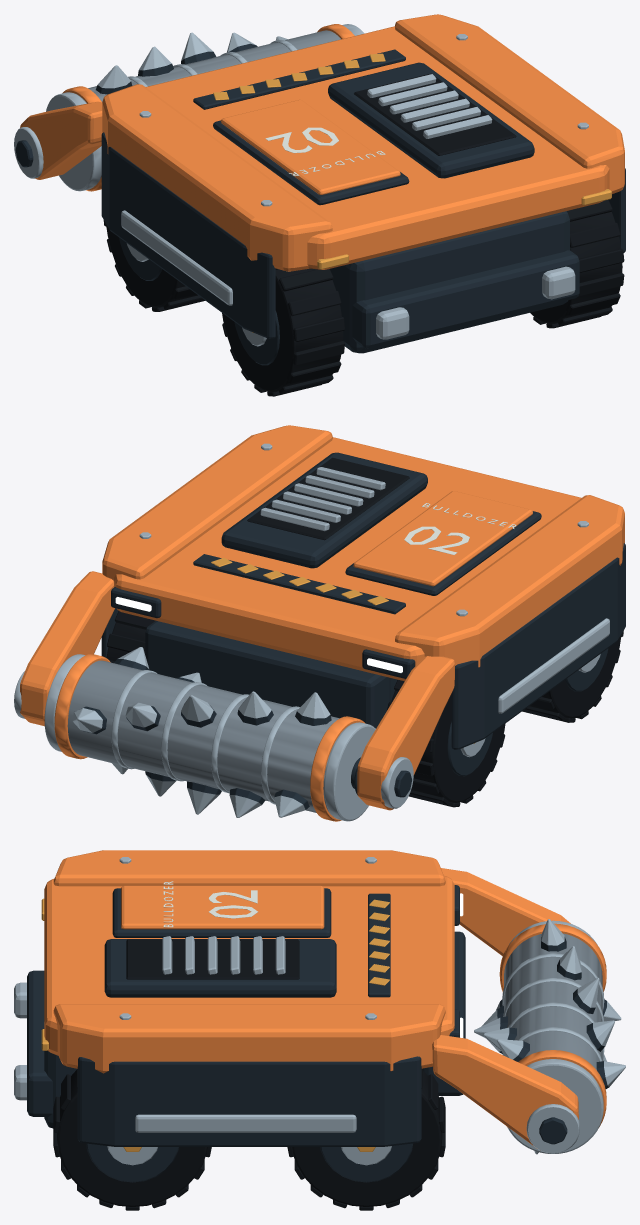
File: bulldozer_v03.glb
3 renders of one model, top to bottom at view 1: azimuth 30°, elevation 25°; view 2: azimuth 150°, elevation 25°; view 3: azimuth 270°, elevation 25°, orthographic.
Parts seen in each view (by area): view 1: ChassisMesh, Wheel_RL_Mesh, WeaponMesh, Wheel_RR_Mesh, Wheel_FL_Mesh; view 2: ChassisMesh, WeaponMesh, Wheel_FL_Mesh, Wheel_RL_Mesh, Wheel_FR_Mesh; view 3: ChassisMesh, WeaponMesh, Wheel_FR_Mesh, Wheel_RR_Mesh.
Part boxes in pixels (x1,y1,x2,y2): ChassisMesh: [14, 14, 625, 353]; Wheel_RL_Mesh: [222, 268, 344, 396]; WeaponMesh: [46, 24, 364, 191]; Wheel_RR_Mesh: [530, 199, 624, 328]; Wheel_FL_Mesh: [103, 220, 205, 311]; ChassisMesh: [14, 425, 625, 810]; WeaponMesh: [44, 647, 375, 821]; Wheel_FL_Mesh: [387, 680, 505, 807]; Wheel_RL_Mesh: [522, 631, 623, 722]; Wheel_FR_Mesh: [106, 611, 155, 662]; ChassisMesh: [14, 850, 579, 1153]; WeaponMesh: [474, 919, 625, 1154]; Wheel_FR_Mesh: [287, 1069, 445, 1210]; Wheel_RR_Mesh: [53, 1069, 211, 1210].
Size of the model in its own units: 1.66 by 0.8367 by 2.27.
